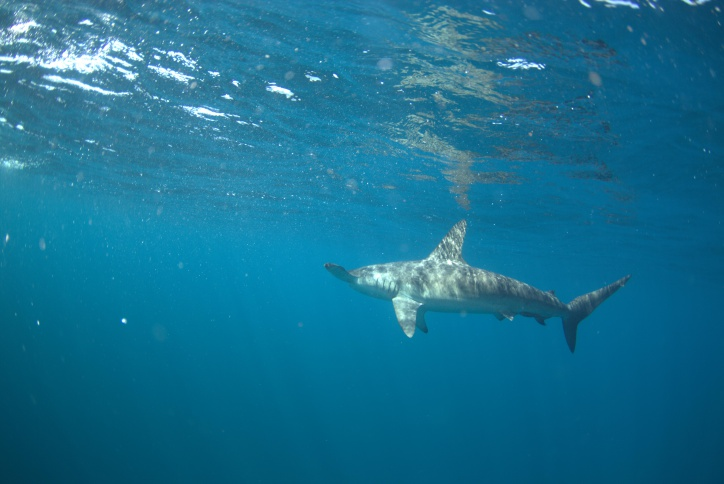Hammer: (170, 108, 624, 399), (320, 217, 634, 367)
